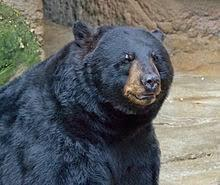bear: (0, 21, 174, 185)
